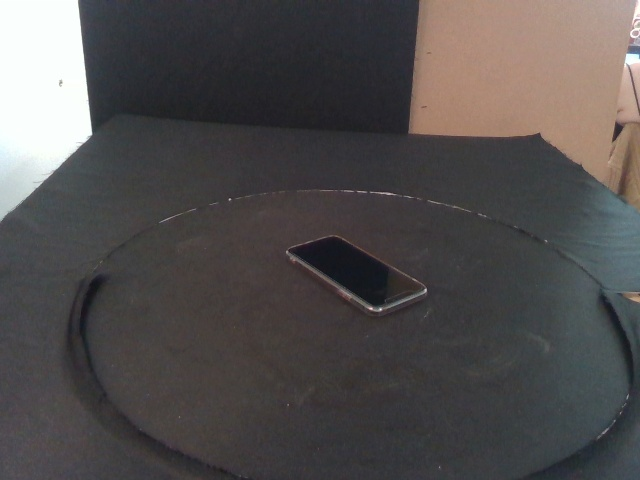phone: (285, 234, 428, 318)
